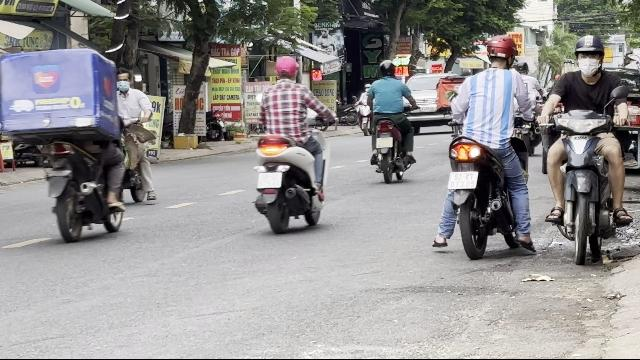helmet: (573, 35, 605, 79), (484, 34, 518, 68), (379, 59, 397, 77)
licenseplate: (448, 171, 478, 189), (258, 172, 282, 188), (376, 138, 392, 148)
motorcyclist: (19, 34, 137, 240), (434, 33, 536, 260), (540, 34, 636, 258), (250, 55, 330, 233), (366, 58, 416, 182)
nohelmet: (273, 56, 299, 80)
